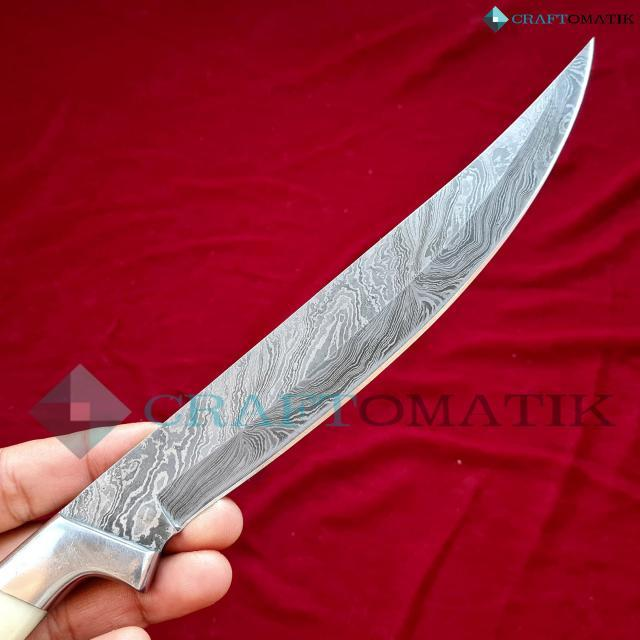short sword: (2, 36, 608, 640)
